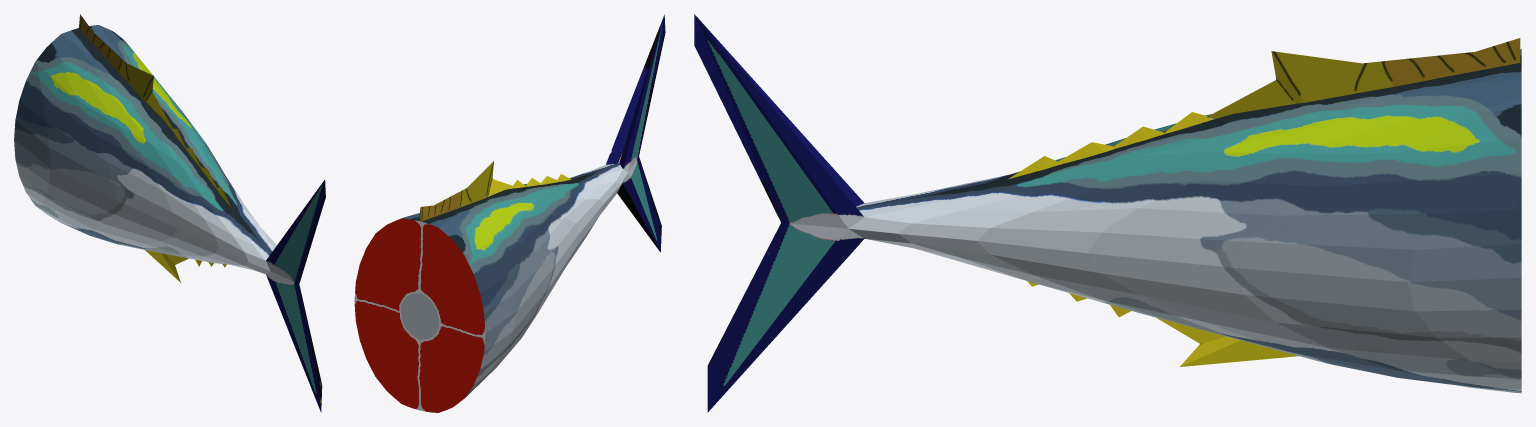
File: fish2.fbx
The picture shows the model from 3 angles, left to right: view 1: azimuth 30°, elevation 25°; view 2: azimuth 150°, elevation 25°; view 3: azimuth 270°, elevation 25°; orthographic projection. The views are drawn at different scales.
Parts seen in each view (by area): view 1: Sphere.001; view 2: Sphere.001; view 3: Sphere.001.
Boxes of the visible parts, x1,y1,x2,y2 form: Sphere.001: [14, 14, 325, 412]; Sphere.001: [354, 14, 665, 412]; Sphere.001: [694, 14, 1521, 412].
Size of the model in its own units: 192 by 331 by 621.
